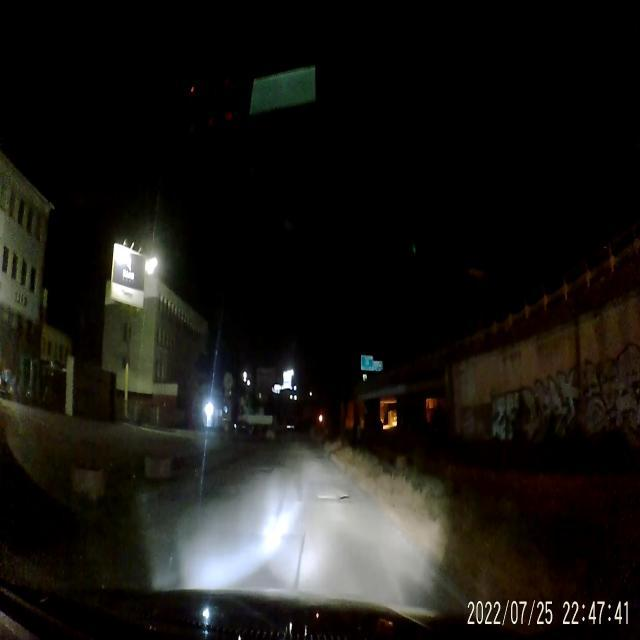Pothole: (317, 490, 355, 503)
